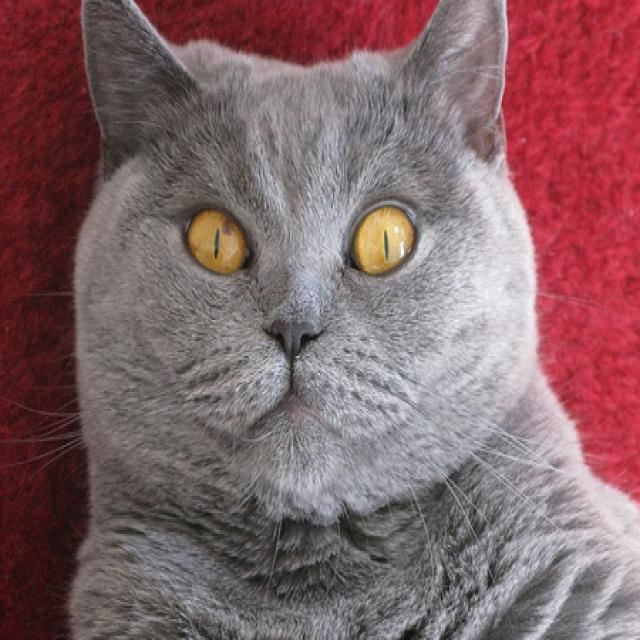British Shorthair: (62, 0, 640, 640)
